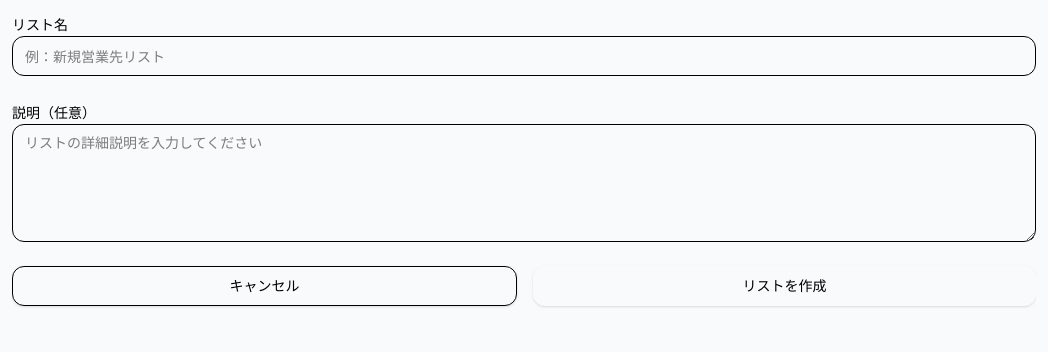
Test: ListForm › バリデーション › リスト名が空の場合エラーが表示される
Click the button "リストを作成" at (784, 286), box [533,266,1036,306]
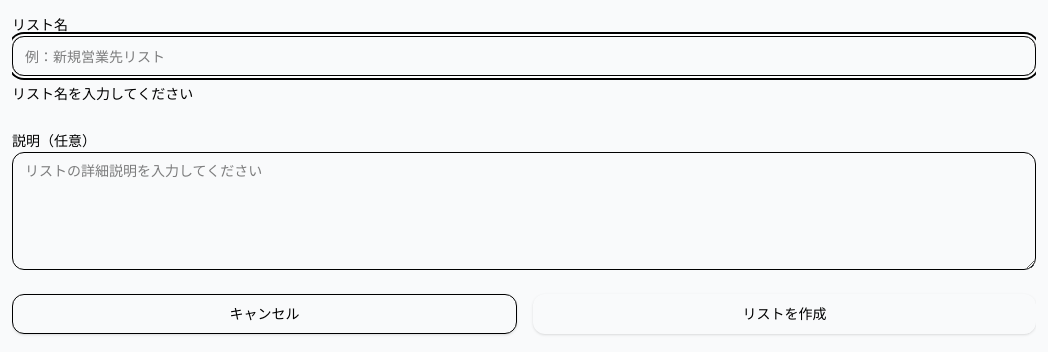
Check: the text "リスト名を入力してください" is shown, box [12,84,193,103]
